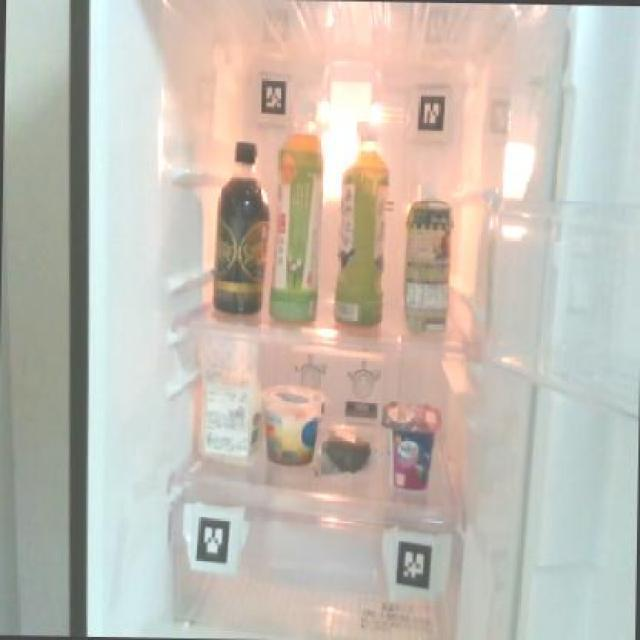bottle: (267, 110, 327, 324), (330, 121, 387, 324)
coffee: (209, 134, 269, 314)
pudding: (260, 380, 318, 466)
rice_ball: (316, 420, 375, 478)
sandwich: (195, 326, 262, 459)
smoothie: (399, 182, 450, 336)
yogurt: (380, 399, 442, 488)
